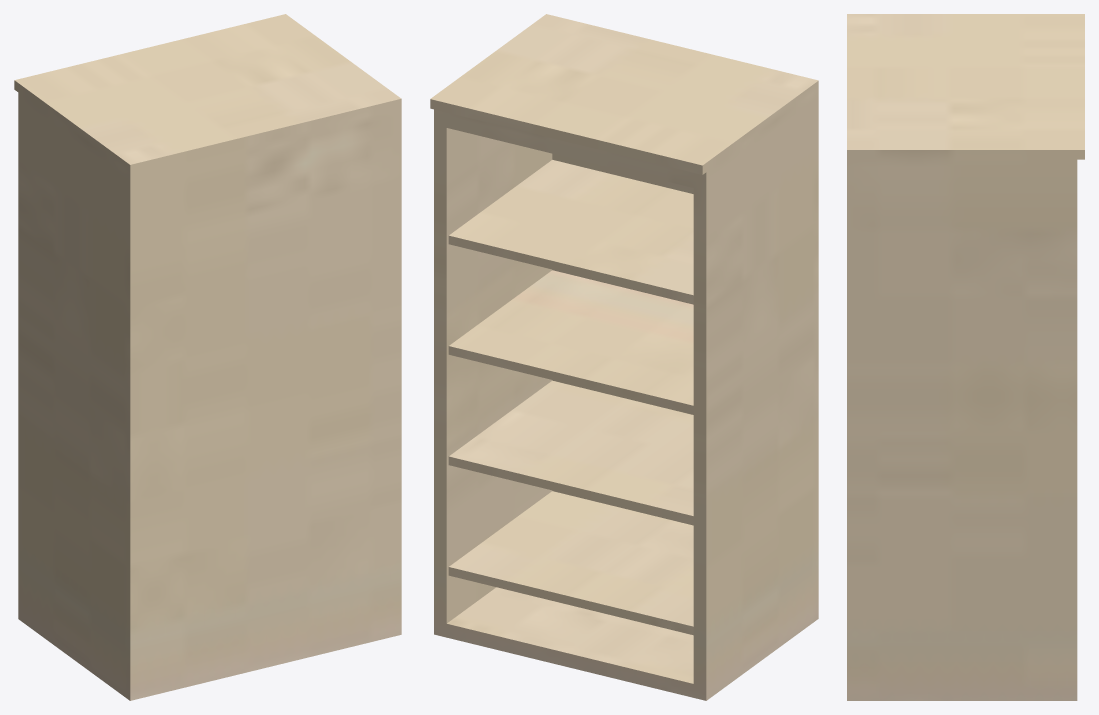
Rendered from Closet31.glb.
3 renders of one model, left to right at view 1: azimuth 30°, elevation 25°; view 2: azimuth 150°, elevation 25°; view 3: azimuth 270°, elevation 25°, orthographic. The views are drawn at different scales.
Parts seen in each view (by area): view 1: Closet31_model; view 2: Closet31_model; view 3: Closet31_model.
Part boxes in pixels (box(x1,y1,x2,y2)): Closet31_model: box(14, 14, 401, 700); Closet31_model: box(430, 14, 818, 700); Closet31_model: box(847, 14, 1084, 700).
Bounding box in the file's own units: 1.37 × 2.58 × 1.01.
Materials: 1 (1 with a texture image).
